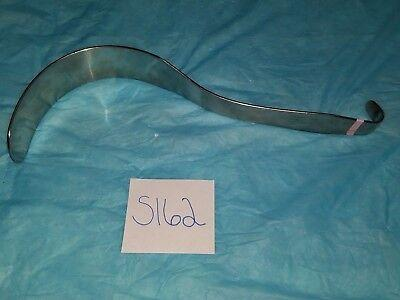Deaver Retractor: (5, 39, 387, 158)
